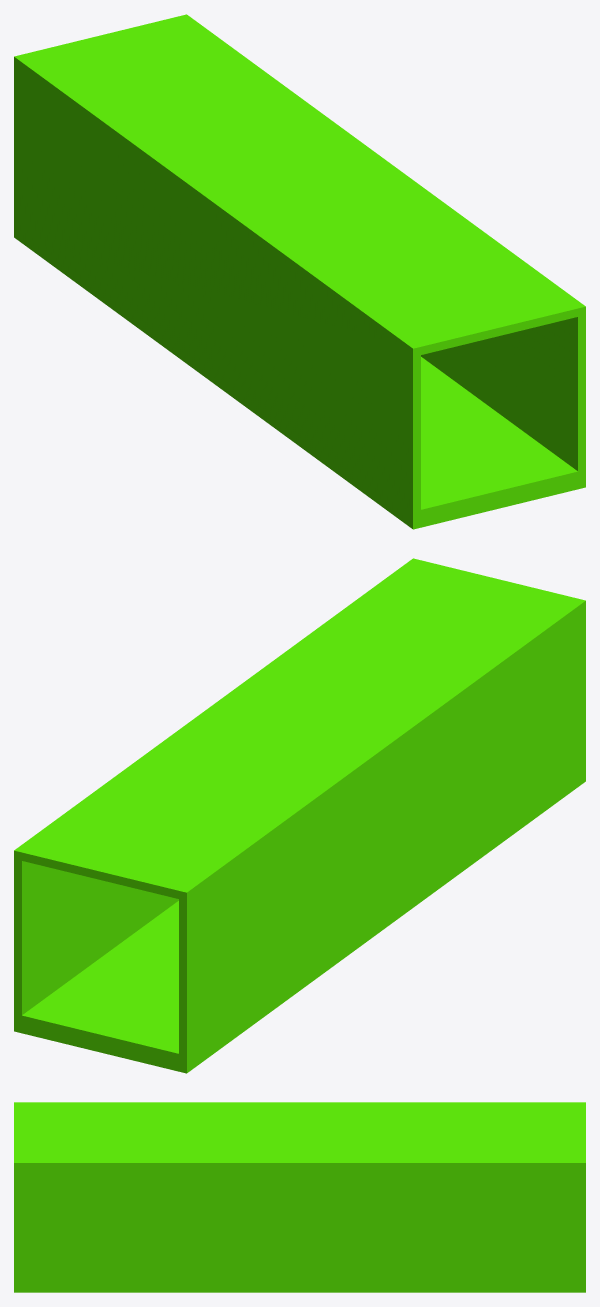
File: shipping_container_big_no_doors_COL.fbx
3 views of the same model, one above another, from view 1: azimuth 30°, elevation 25°; view 2: azimuth 150°, elevation 25°; view 3: azimuth 270°, elevation 25° (orthographic). The views are drawn at different scales.
Visible parts, largest first — view 1: shipping_container_big_no_doors_COL; view 2: shipping_container_big_no_doors_COL; view 3: shipping_container_big_no_doors_COL.
Boxes of the visible parts, x1,y1,x2,y2 form: shipping_container_big_no_doors_COL: (14, 14, 585, 529); shipping_container_big_no_doors_COL: (14, 558, 585, 1073); shipping_container_big_no_doors_COL: (14, 1102, 585, 1292).
Bounding box in the file's own units: 192 × 192 × 768.
